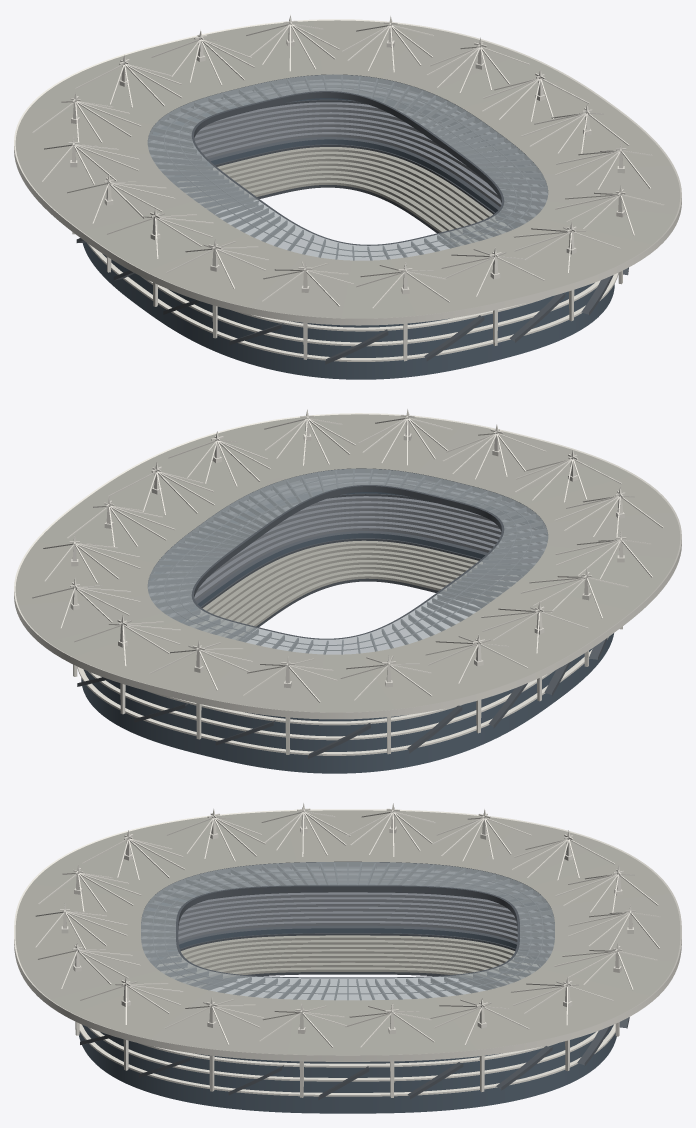
File: paris-stade-de-france.detail.glb
3 views of the same model, one above another, from view 1: azimuth 30°, elevation 25°; view 2: azimuth 150°, elevation 25°; view 3: azimuth 270°, elevation 25° (orthographic). The views are drawn at different scales.
Parts seen in each view (by area): view 1: Stade de France; view 2: Stade de France; view 3: Stade de France.
Boxes of the visible parts, left/top/right/bottom form: Stade de France: left=14, top=15, right=681, bottom=379; Stade de France: left=14, top=409, right=681, bottom=773; Stade de France: left=14, top=803, right=681, bottom=1113.
Size of the model in its own units: 281 by 61 by 322.
